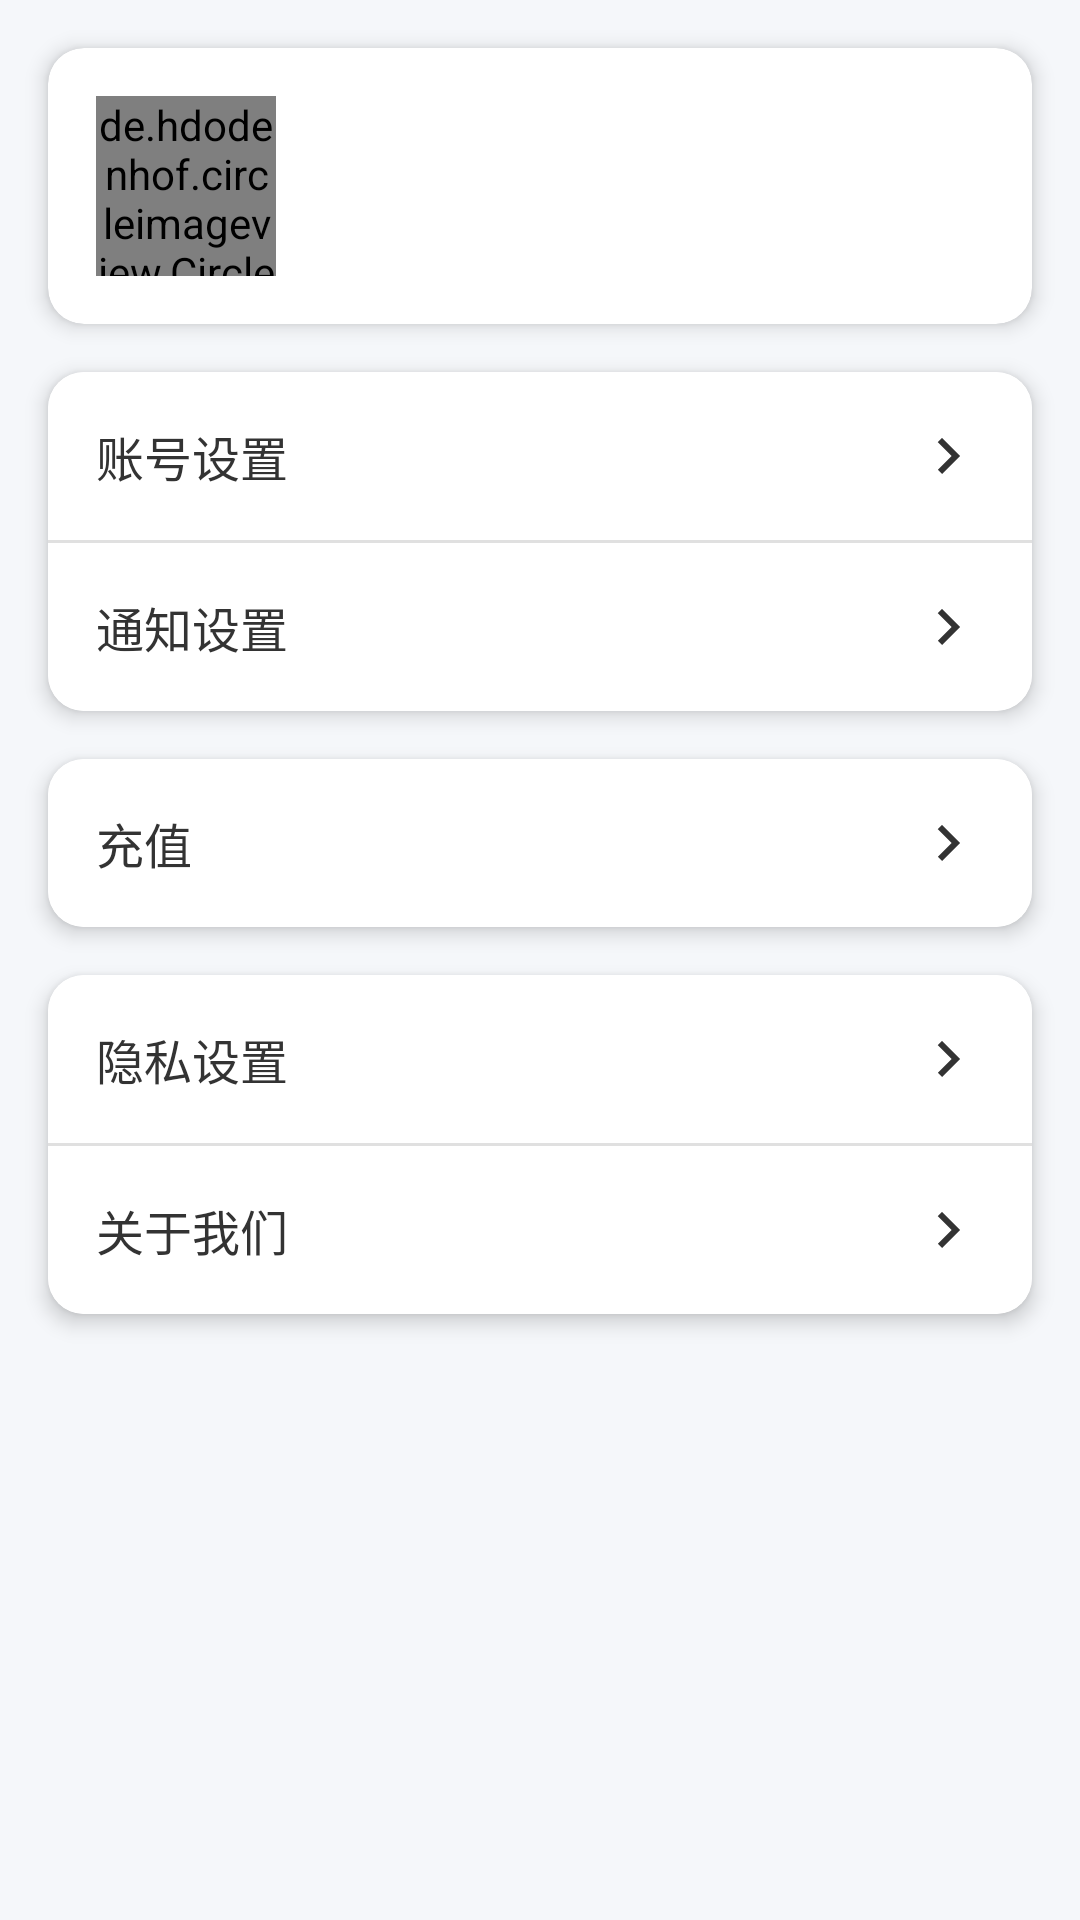

Where icons sit on this 1080*1920 app screen, as {"left": x1, "top": y1, "right": x2, "bottom": y2}:
arrow right: {"left": 938, "top": 438, "right": 960, "bottom": 474}, {"left": 938, "top": 609, "right": 960, "bottom": 645}, {"left": 938, "top": 825, "right": 960, "bottom": 861}, {"left": 938, "top": 1041, "right": 960, "bottom": 1077}, {"left": 938, "top": 1212, "right": 960, "bottom": 1248}
